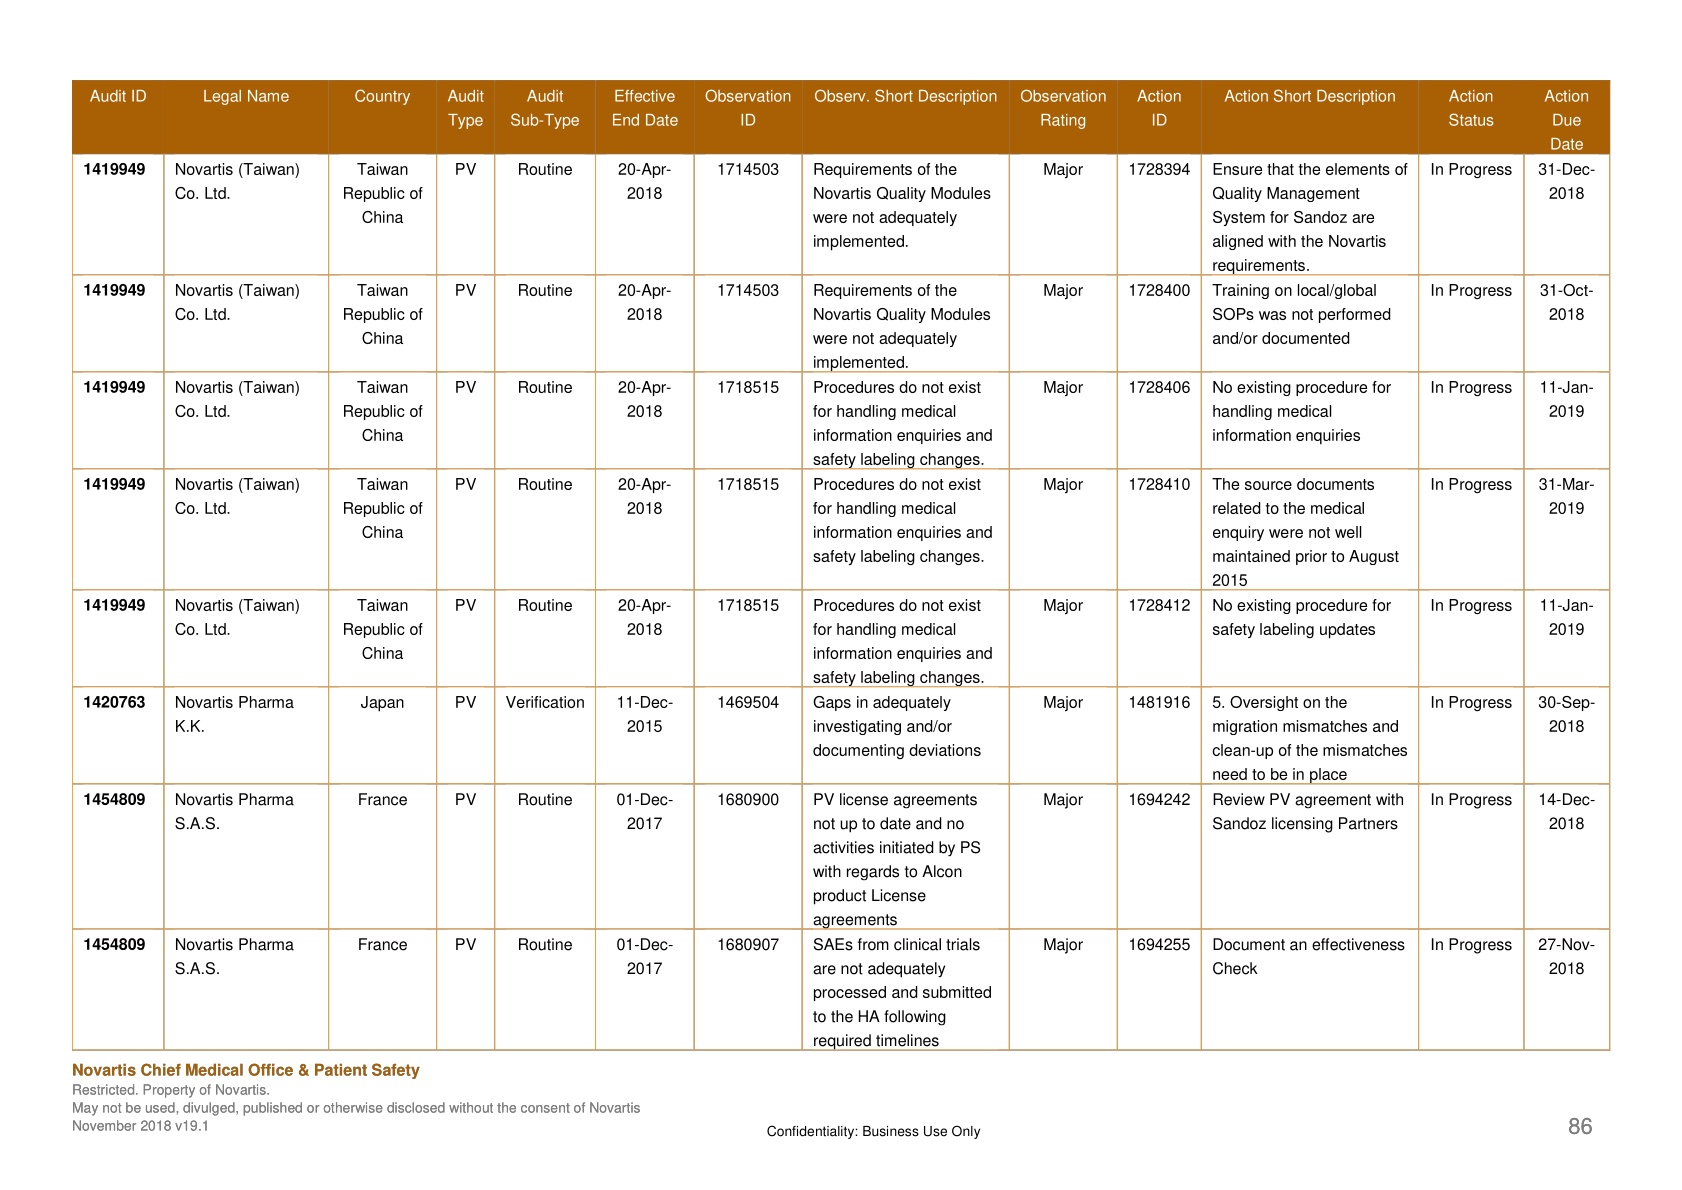full_lined: (72, 79, 1611, 1051)
